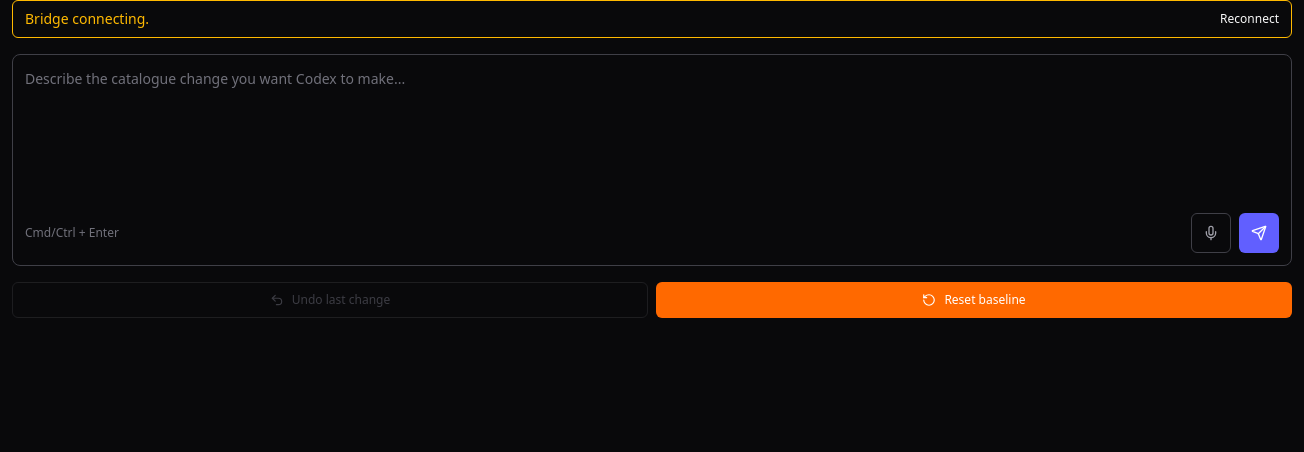
Test: FeatureRequest › preserves the prompt when the bridge reports another sandbox operation is running
In the text box with placeholder "Describe the catalogue change you want Codex to make...": {"x": 652, "y": 131} [25,67,1279,195], type "Add filters"
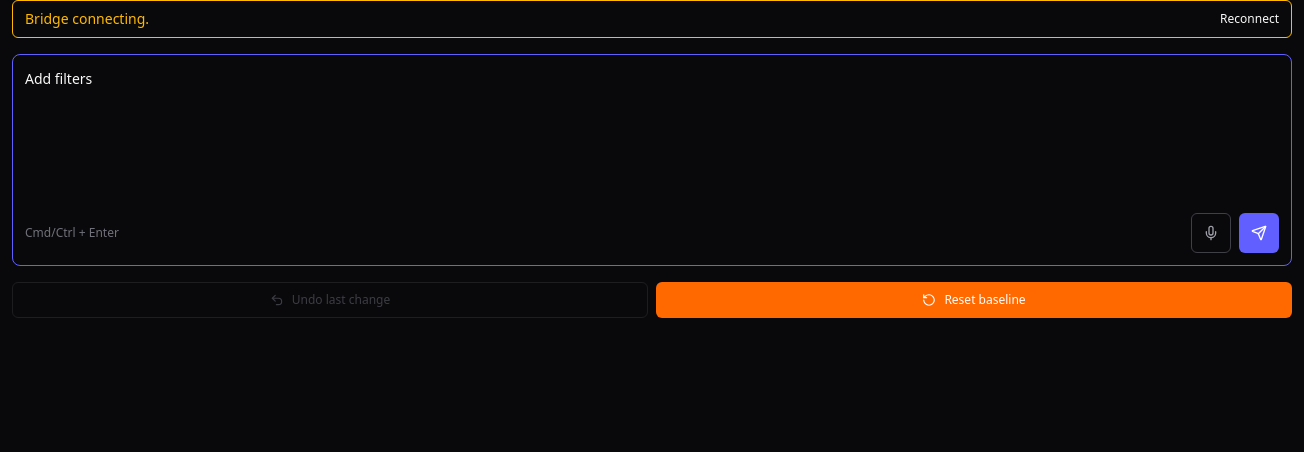
Click the button named "Submit feature request": {"x": 1259, "y": 233} [1239,213,1279,253]
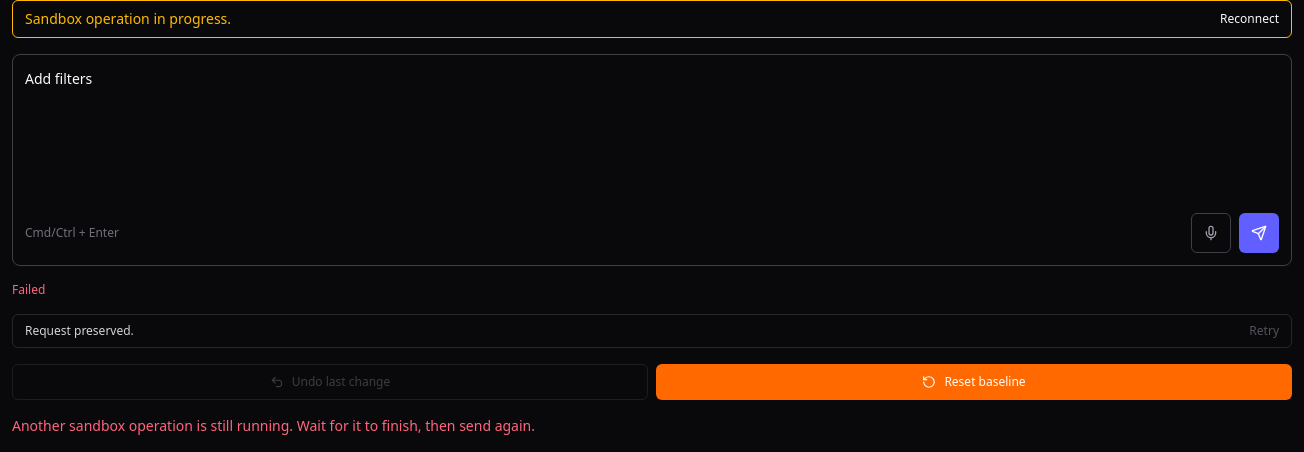
Expected: the text "Another sandbox operation is still running. Wait for it to finish, then send again." is shown, [12,416,535,435]
Expected: the text "Sandbox operation in progress." is shown, [25,9,231,29]
